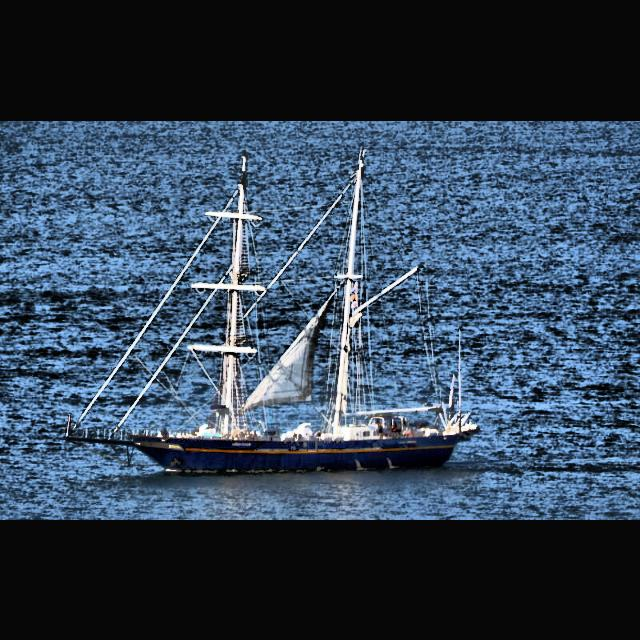sailing_vessel: (66, 144, 482, 472)
